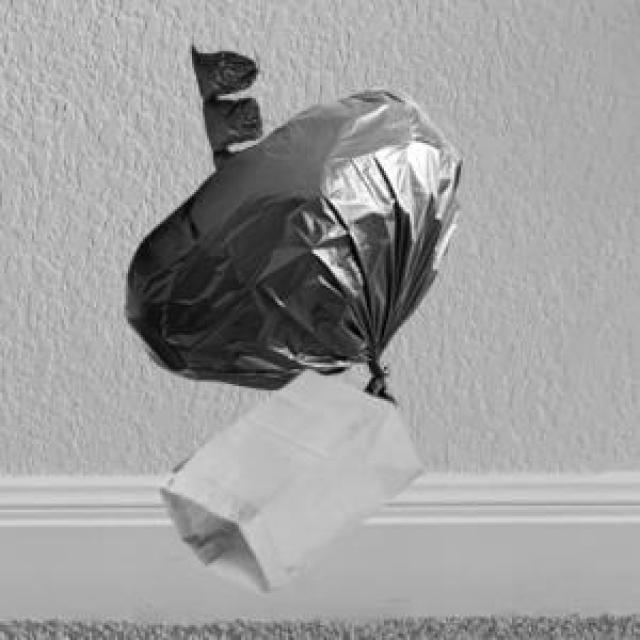miscellaneous trash: (122, 83, 457, 401), (188, 41, 258, 164)
paper: (154, 365, 418, 589)
